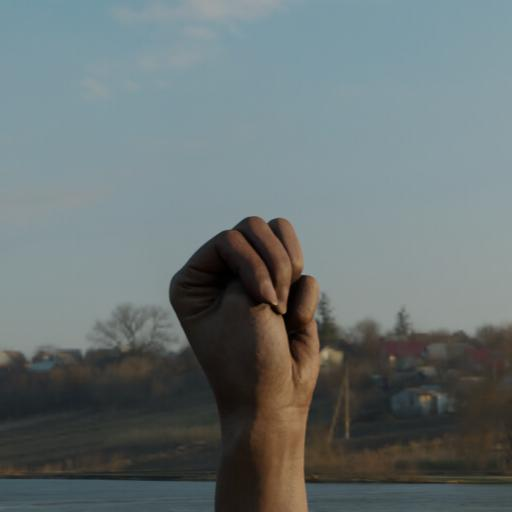M: (134, 201, 352, 512)
